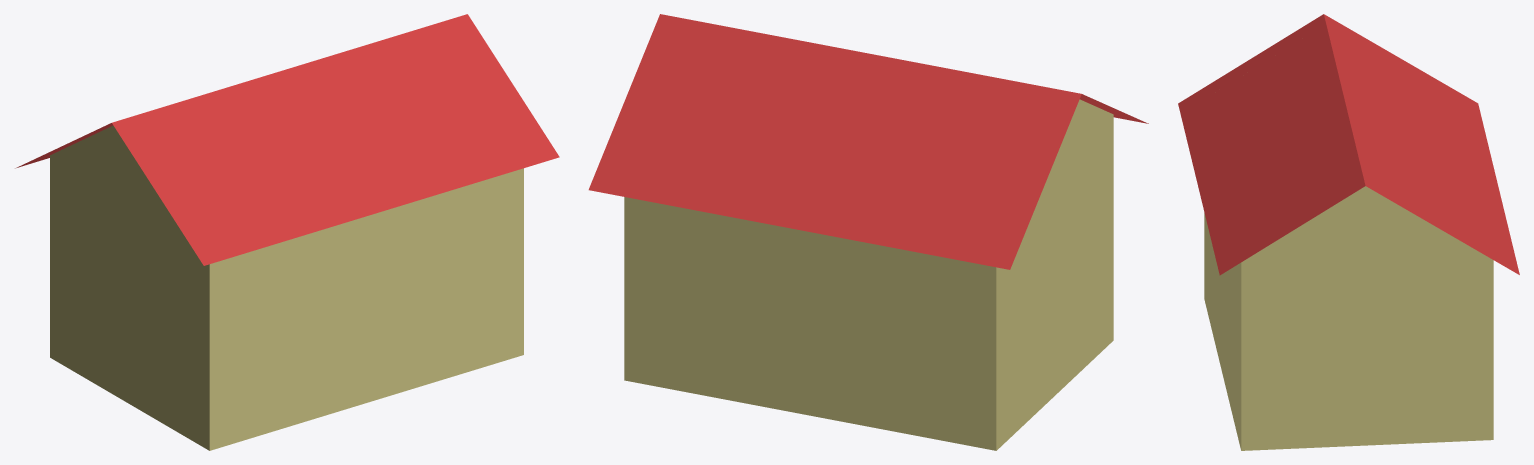
3 views of the same model, side by side, from view 1: azimuth 30°, elevation 25°; view 2: azimuth 150°, elevation 25°; view 3: azimuth 270°, elevation 25° (orthographic). The views are drawn at different scales.
Size of the model in its own units: 13.7 by 10.7 by 9.31.
